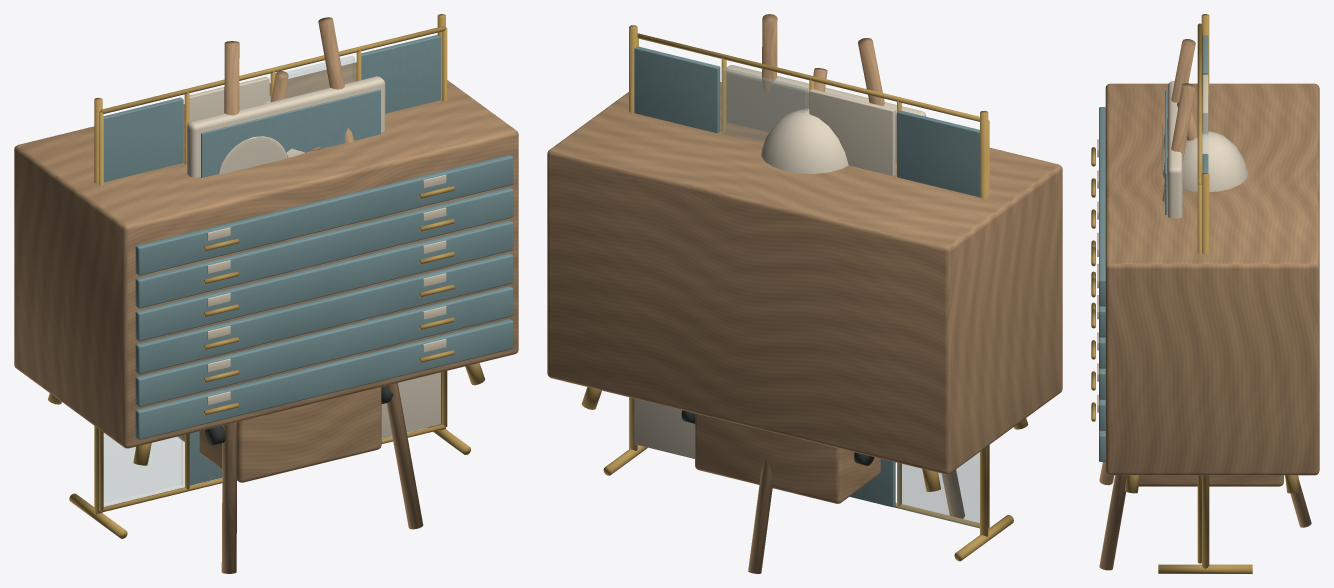
The model's file is tidy-life-artist.glb.
3 views of the same model, side by side, from view 1: azimuth 30°, elevation 25°; view 2: azimuth 150°, elevation 25°; view 3: azimuth 270°, elevation 25° (orthographic). The views are drawn at different scales.
Parts seen in each view (by area): view 1: life_artist_flatfile_mesh, life_artist_colorpartition_mesh, life_artist_easel_mesh, life_artist_bust_mesh; view 2: life_artist_flatfile_mesh, life_artist_colorpartition_mesh, life_artist_bust_mesh, life_artist_easel_mesh; view 3: life_artist_flatfile_mesh, life_artist_easel_mesh, life_artist_colorpartition_mesh, life_artist_bust_mesh.
Part boxes in pixels (left/top/right/bottom): life_artist_flatfile_mesh: left=14, top=62, right=518, bottom=465; life_artist_colorpartition_mesh: left=69, top=14, right=470, bottom=538; life_artist_easel_mesh: left=187, top=17, right=423, bottom=573; life_artist_bust_mesh: left=178, top=95, right=381, bottom=482; life_artist_flatfile_mesh: left=547, top=82, right=1062, bottom=491; life_artist_colorpartition_mesh: left=603, top=25, right=1013, bottom=561; life_artist_bust_mesh: left=695, top=108, right=880, bottom=503; life_artist_easel_mesh: left=726, top=14, right=964, bottom=573; life_artist_flatfile_mesh: left=1091, top=83, right=1319, bottom=493; life_artist_easel_mesh: left=1099, top=39, right=1311, bottom=570; life_artist_colorpartition_mesh: left=1158, top=14, right=1252, bottom=573; life_artist_bust_mesh: left=1138, top=131, right=1283, bottom=486.
Bounding box in the file's own units: 0.55 × 0.65 × 0.29.
Materials: 10 (10 with a texture image).
